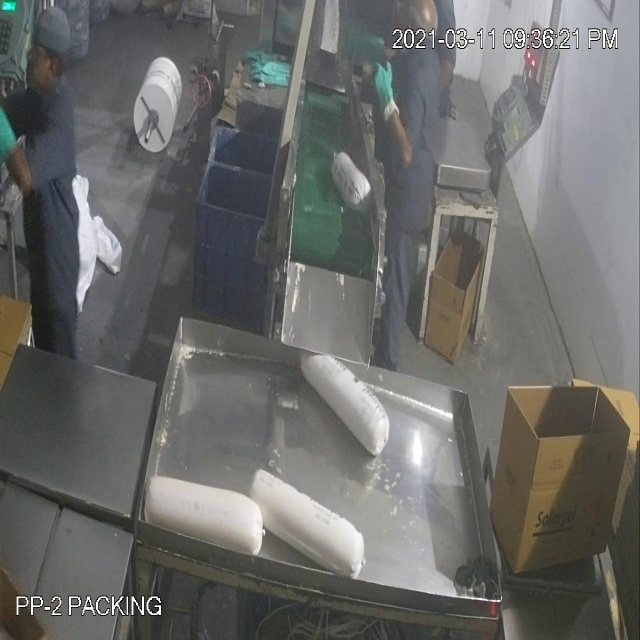Guantes: (365, 54, 399, 119)
